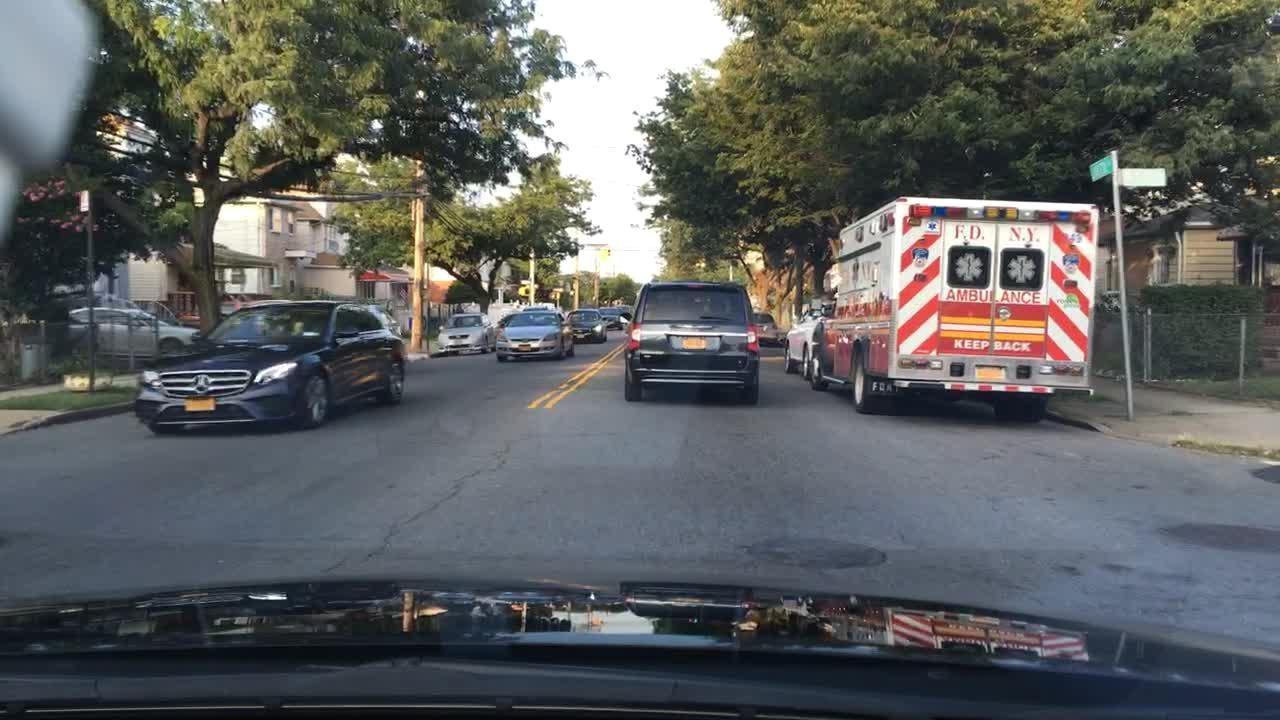Mercedes: (192, 372, 212, 397)
